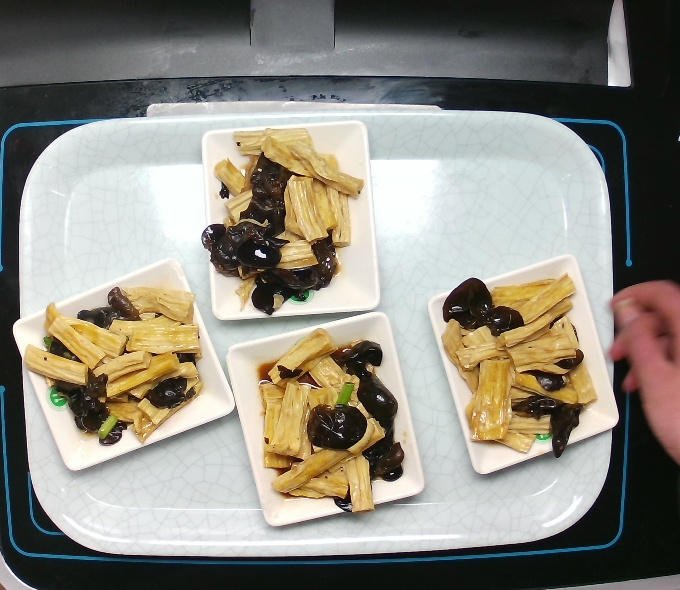wcq-MuErFuZhu: (434, 268, 600, 464), (201, 127, 369, 319), (24, 282, 216, 445), (250, 330, 411, 516)
